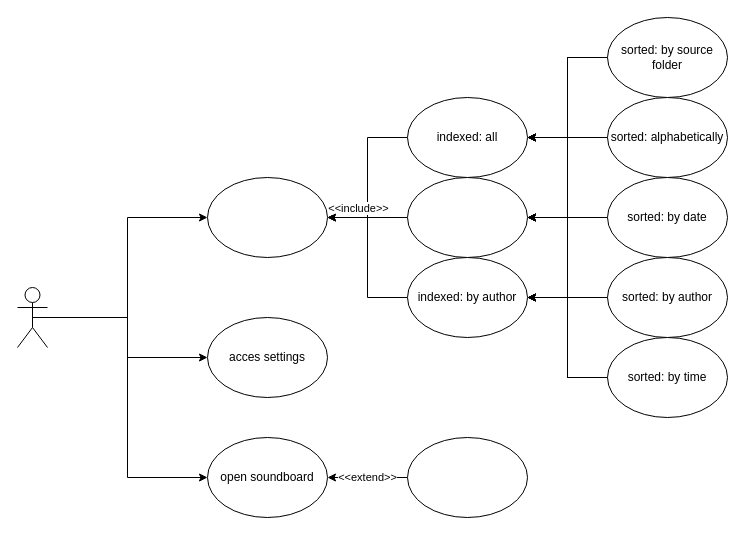
The diagram is 745 pixels wide and 535 high, and some of its shapes have lost their labels. Here are the shapes that lost their labels. From the top down, the centre of each, then its label:
the point at 267,217: acces tracks
the point at 467,217: indexed: by album
the point at 32,317: user
the point at 467,477: pin soundboard to main widow
